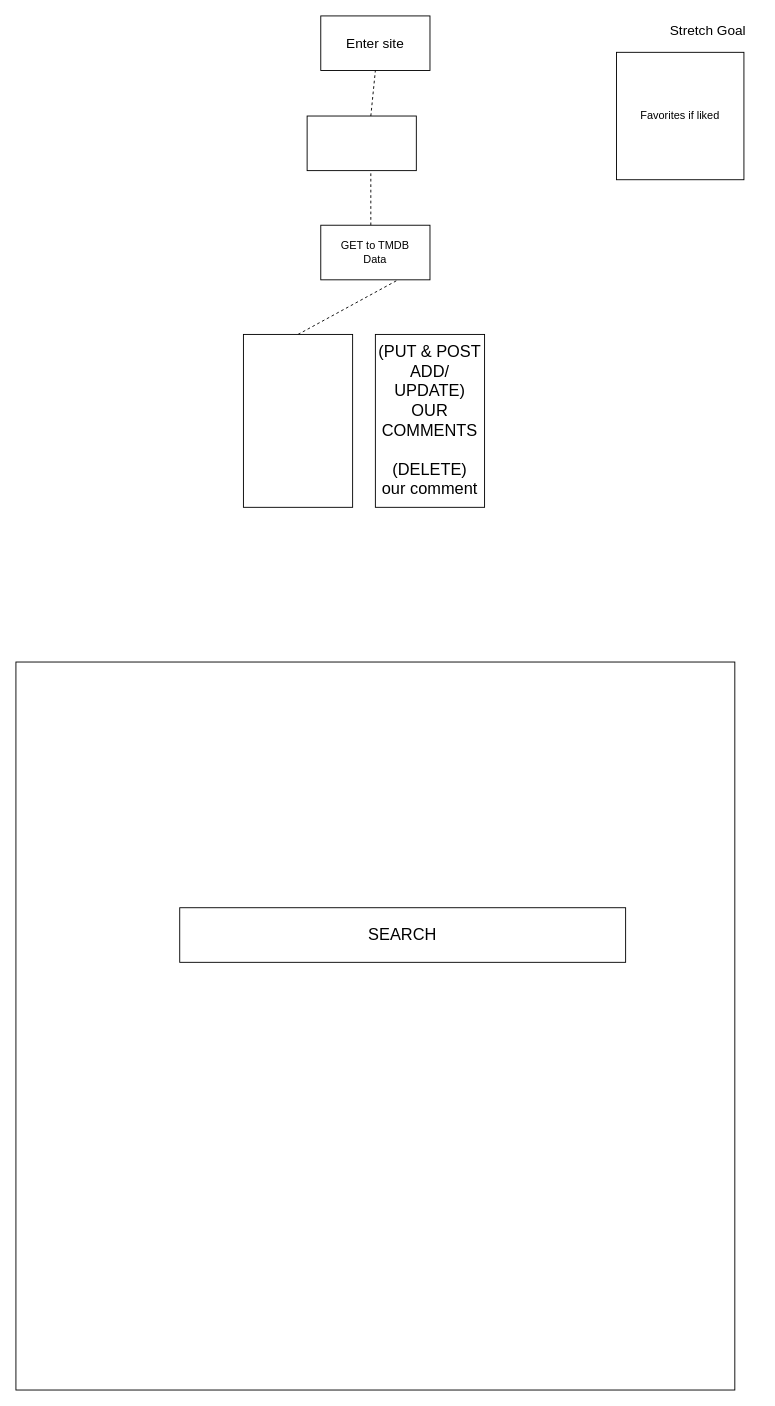
Image size: 775x1406. Some labels were removed from this diagram. Here are the shapes that lost their labels. From the top down, the centre of each, then its label:
At (361,143): "Search for movie title".
At (298,420): "(GET) Title Rating Description Plot Actors Budget".
